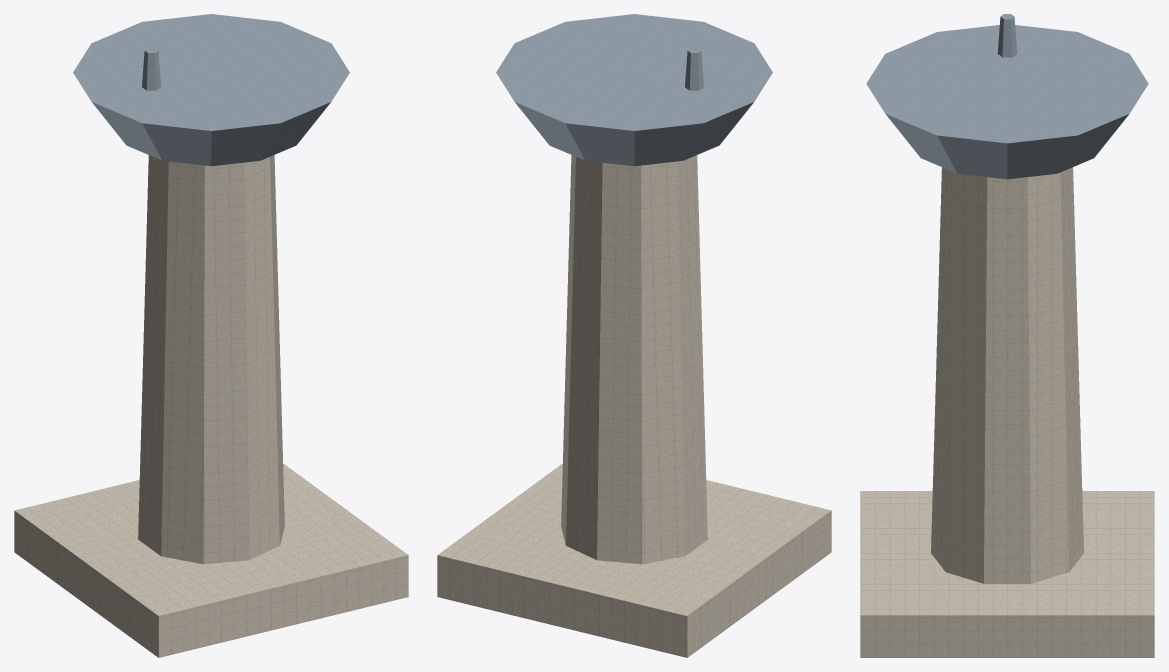
The picture shows the model from 3 angles, left to right: view 1: azimuth 30°, elevation 25°; view 2: azimuth 150°, elevation 25°; view 3: azimuth 270°, elevation 25°; orthographic projection.
Visible parts, largest first — view 1: drinking_fountain; view 2: drinking_fountain; view 3: drinking_fountain.
Part boxes in pixels (bbox=[...]): drinking_fountain: bbox=[14, 14, 408, 657]; drinking_fountain: bbox=[437, 14, 831, 657]; drinking_fountain: bbox=[860, 14, 1154, 657].
Size of the model in its own units: 0.5 by 1.03 by 0.5.
Materials: 3 (3 with a texture image).
